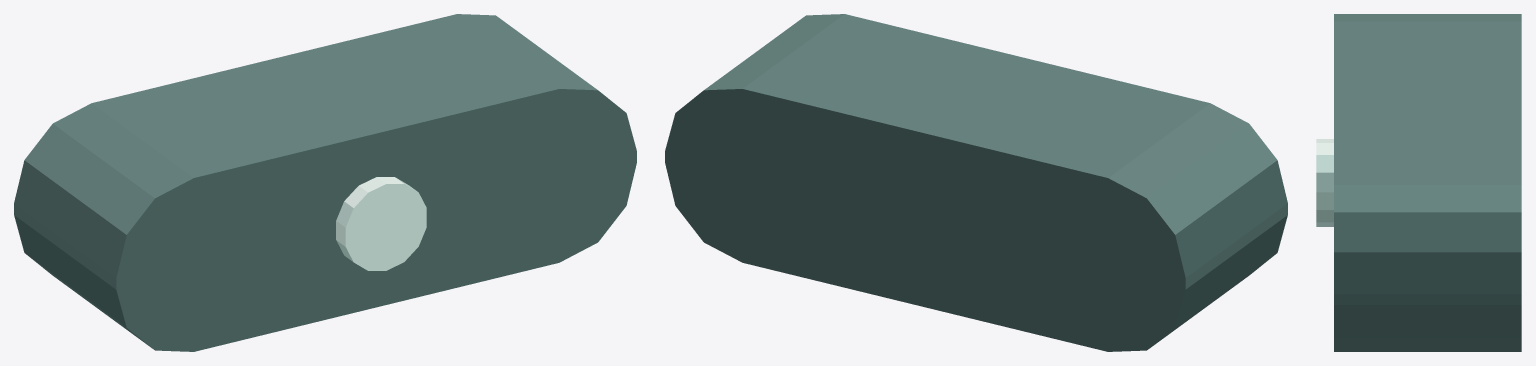
The model's file is Edge_ShutterH.gltf.
3 renders of one model, left to right at view 1: azimuth 30°, elevation 25°; view 2: azimuth 150°, elevation 25°; view 3: azimuth 270°, elevation 25°, orthographic. The views are drawn at different scales.
Visible parts, largest first — view 1: Edge_ShutterH_baked; view 2: Edge_ShutterH_baked; view 3: Edge_ShutterH_baked.
Part boxes in pixels (x1=…): Edge_ShutterH_baked: x1=14, y1=14, x2=636, y2=351; Edge_ShutterH_baked: x1=665, y1=14, x2=1287, y2=351; Edge_ShutterH_baked: x1=1316, y1=14, x2=1521, y2=351.
Bounding box in the file's own units: 0.94 × 0.3 × 0.35.
